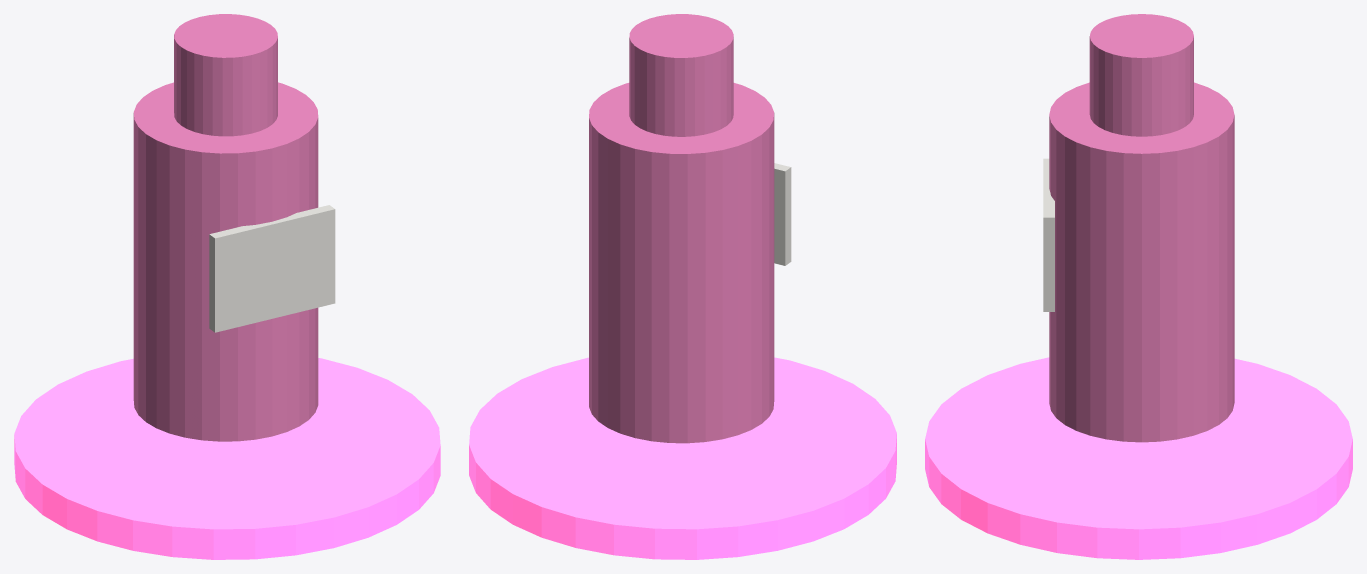
File: beauty_serum_bottle.glb
The picture shows the model from 3 angles, left to right: view 1: azimuth 30°, elevation 25°; view 2: azimuth 150°, elevation 25°; view 3: azimuth 270°, elevation 25°; orthographic projection.
Visible parts, largest first — view 1: 03_13_Popular_Beauty_Serum_Bottle_ROOT_base, 03_13_Popular_Beauty_Serum_Bottle_part_01, 03_13_Popular_Beauty_Serum_Bottle_part_03, 03_13_Popular_Beauty_Serum_Bottle_part_02; view 2: 03_13_Popular_Beauty_Serum_Bottle_part_01, 03_13_Popular_Beauty_Serum_Bottle_ROOT_base, 03_13_Popular_Beauty_Serum_Bottle_part_02, 03_13_Popular_Beauty_Serum_Bottle_part_03; view 3: 03_13_Popular_Beauty_Serum_Bottle_part_01, 03_13_Popular_Beauty_Serum_Bottle_ROOT_base, 03_13_Popular_Beauty_Serum_Bottle_part_02, 03_13_Popular_Beauty_Serum_Bottle_part_03.
Part boxes in pixels (x1,y1,x2,y2): 03_13_Popular_Beauty_Serum_Bottle_ROOT_base: (14,358,440,559); 03_13_Popular_Beauty_Serum_Bottle_part_01: (133,82,318,441); 03_13_Popular_Beauty_Serum_Bottle_part_03: (209,205,335,332); 03_13_Popular_Beauty_Serum_Bottle_part_02: (174,14,277,136); 03_13_Popular_Beauty_Serum_Bottle_part_01: (589,83,774,443); 03_13_Popular_Beauty_Serum_Bottle_ROOT_base: (469,357,896,559); 03_13_Popular_Beauty_Serum_Bottle_part_02: (629,14,733,136); 03_13_Popular_Beauty_Serum_Bottle_part_03: (774,163,791,265); 03_13_Popular_Beauty_Serum_Bottle_part_01: (1049,82,1234,442); 03_13_Popular_Beauty_Serum_Bottle_ROOT_base: (925,357,1352,559); 03_13_Popular_Beauty_Serum_Bottle_part_02: (1089,14,1193,136); 03_13_Popular_Beauty_Serum_Bottle_part_03: (1043,158,1054,311).
Size of the model in its own units: 0.76 by 0.85 by 0.76.
